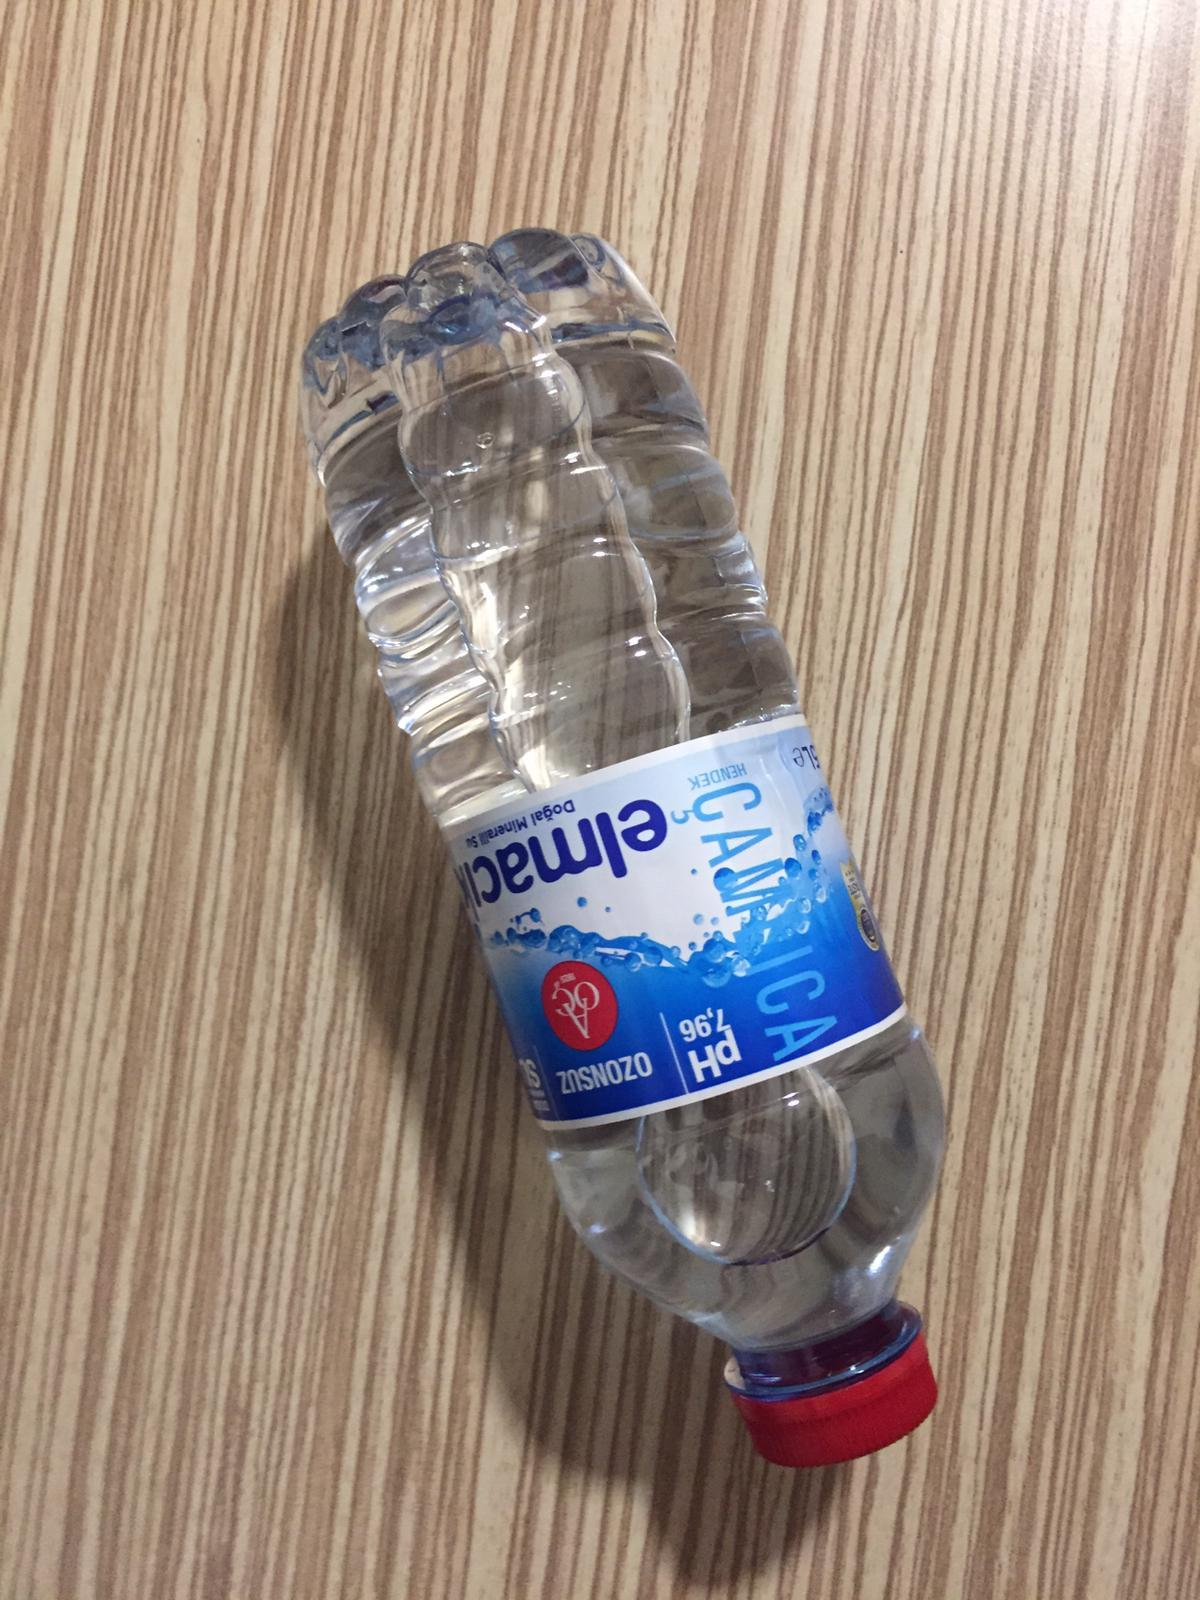bottle: (301, 214, 952, 1470)
